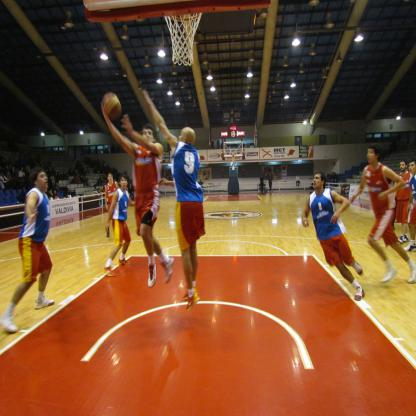Ball: (102, 92, 120, 117)
